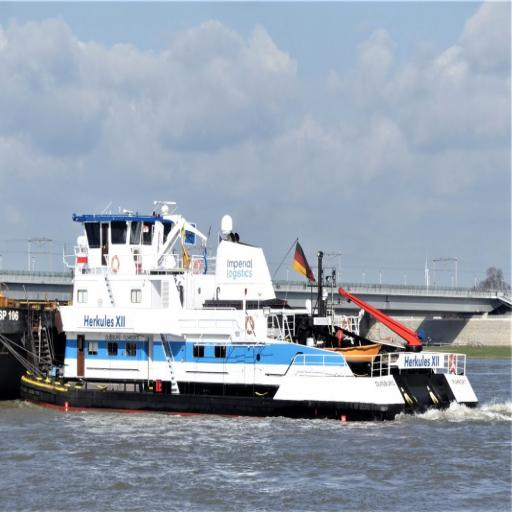tugboat: (18, 197, 483, 433)
